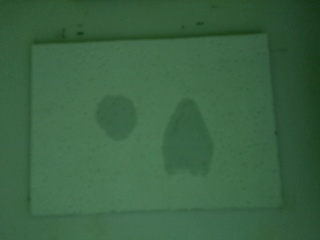Water_detected: (176, 108, 219, 176), (99, 101, 139, 140)
